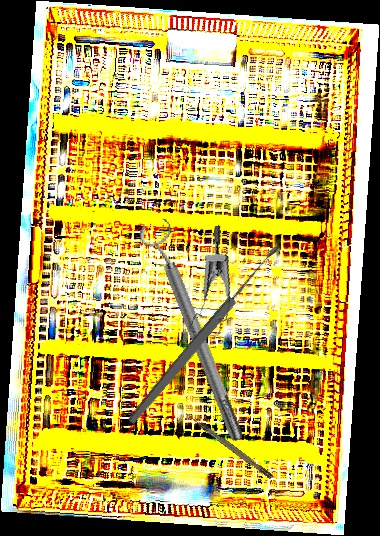Fixation Ring: (135, 214, 254, 448)
Hook Surgical: (184, 410, 274, 481)
Speculum: (166, 224, 247, 346)
Surgical Spoon: (125, 242, 283, 427)
